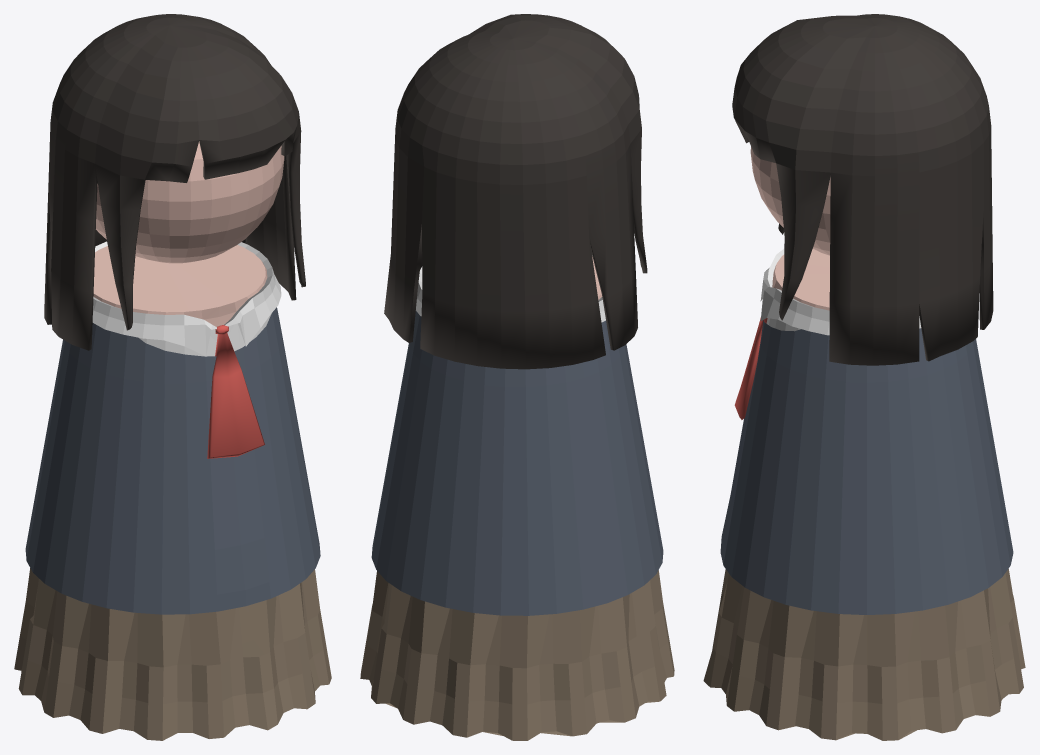
The model's file is char_student_2.fbx.
3 views of the same model, side by side, from view 1: azimuth 30°, elevation 25°; view 2: azimuth 150°, elevation 25°; view 3: azimuth 270°, elevation 25° (orthographic).
Parts seen in each view (by area): view 1: npcM_body.003, npcM_body.001; view 2: npcM_body.003, npcM_body.001; view 3: npcM_body.003, npcM_body.001.
Boxes of the visible parts, bbox=[...] form: npcM_body.003: bbox=[14, 141, 331, 740]; npcM_body.001: bbox=[44, 14, 305, 350]; npcM_body.003: bbox=[360, 255, 674, 740]; npcM_body.001: bbox=[384, 14, 647, 369]; npcM_body.003: bbox=[703, 147, 1025, 740]; npcM_body.001: bbox=[732, 14, 993, 365].
Bounding box in the file's own units: 0.6855 × 1.55 × 0.6972.
